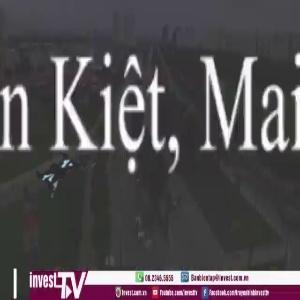drone: (7, 120, 118, 231)
